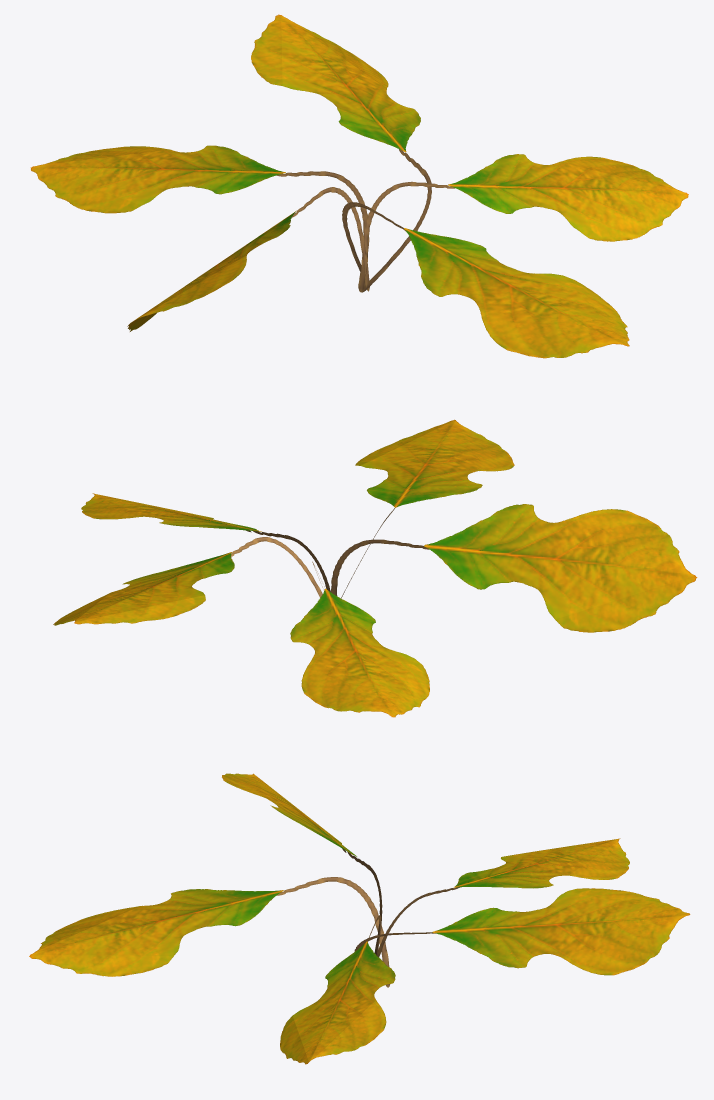
Rendered from Row Root A3.fbx.
3 views of the same model, one above another, from view 1: azimuth 30°, elevation 25°; view 2: azimuth 150°, elevation 25°; view 3: azimuth 270°, elevation 25° (orthographic). The views are drawn at different scales.
Parts seen in each view (by area): view 1: Row Root A3; view 2: Row Root A3; view 3: Row Root A3.
Part boxes in pixels (x1,y1,x2,y2): Row Root A3: [30, 14, 688, 358]; Row Root A3: [53, 419, 697, 717]; Row Root A3: [29, 773, 690, 1064].
Size of the model in its own units: 232 by 51.04 by 250.
